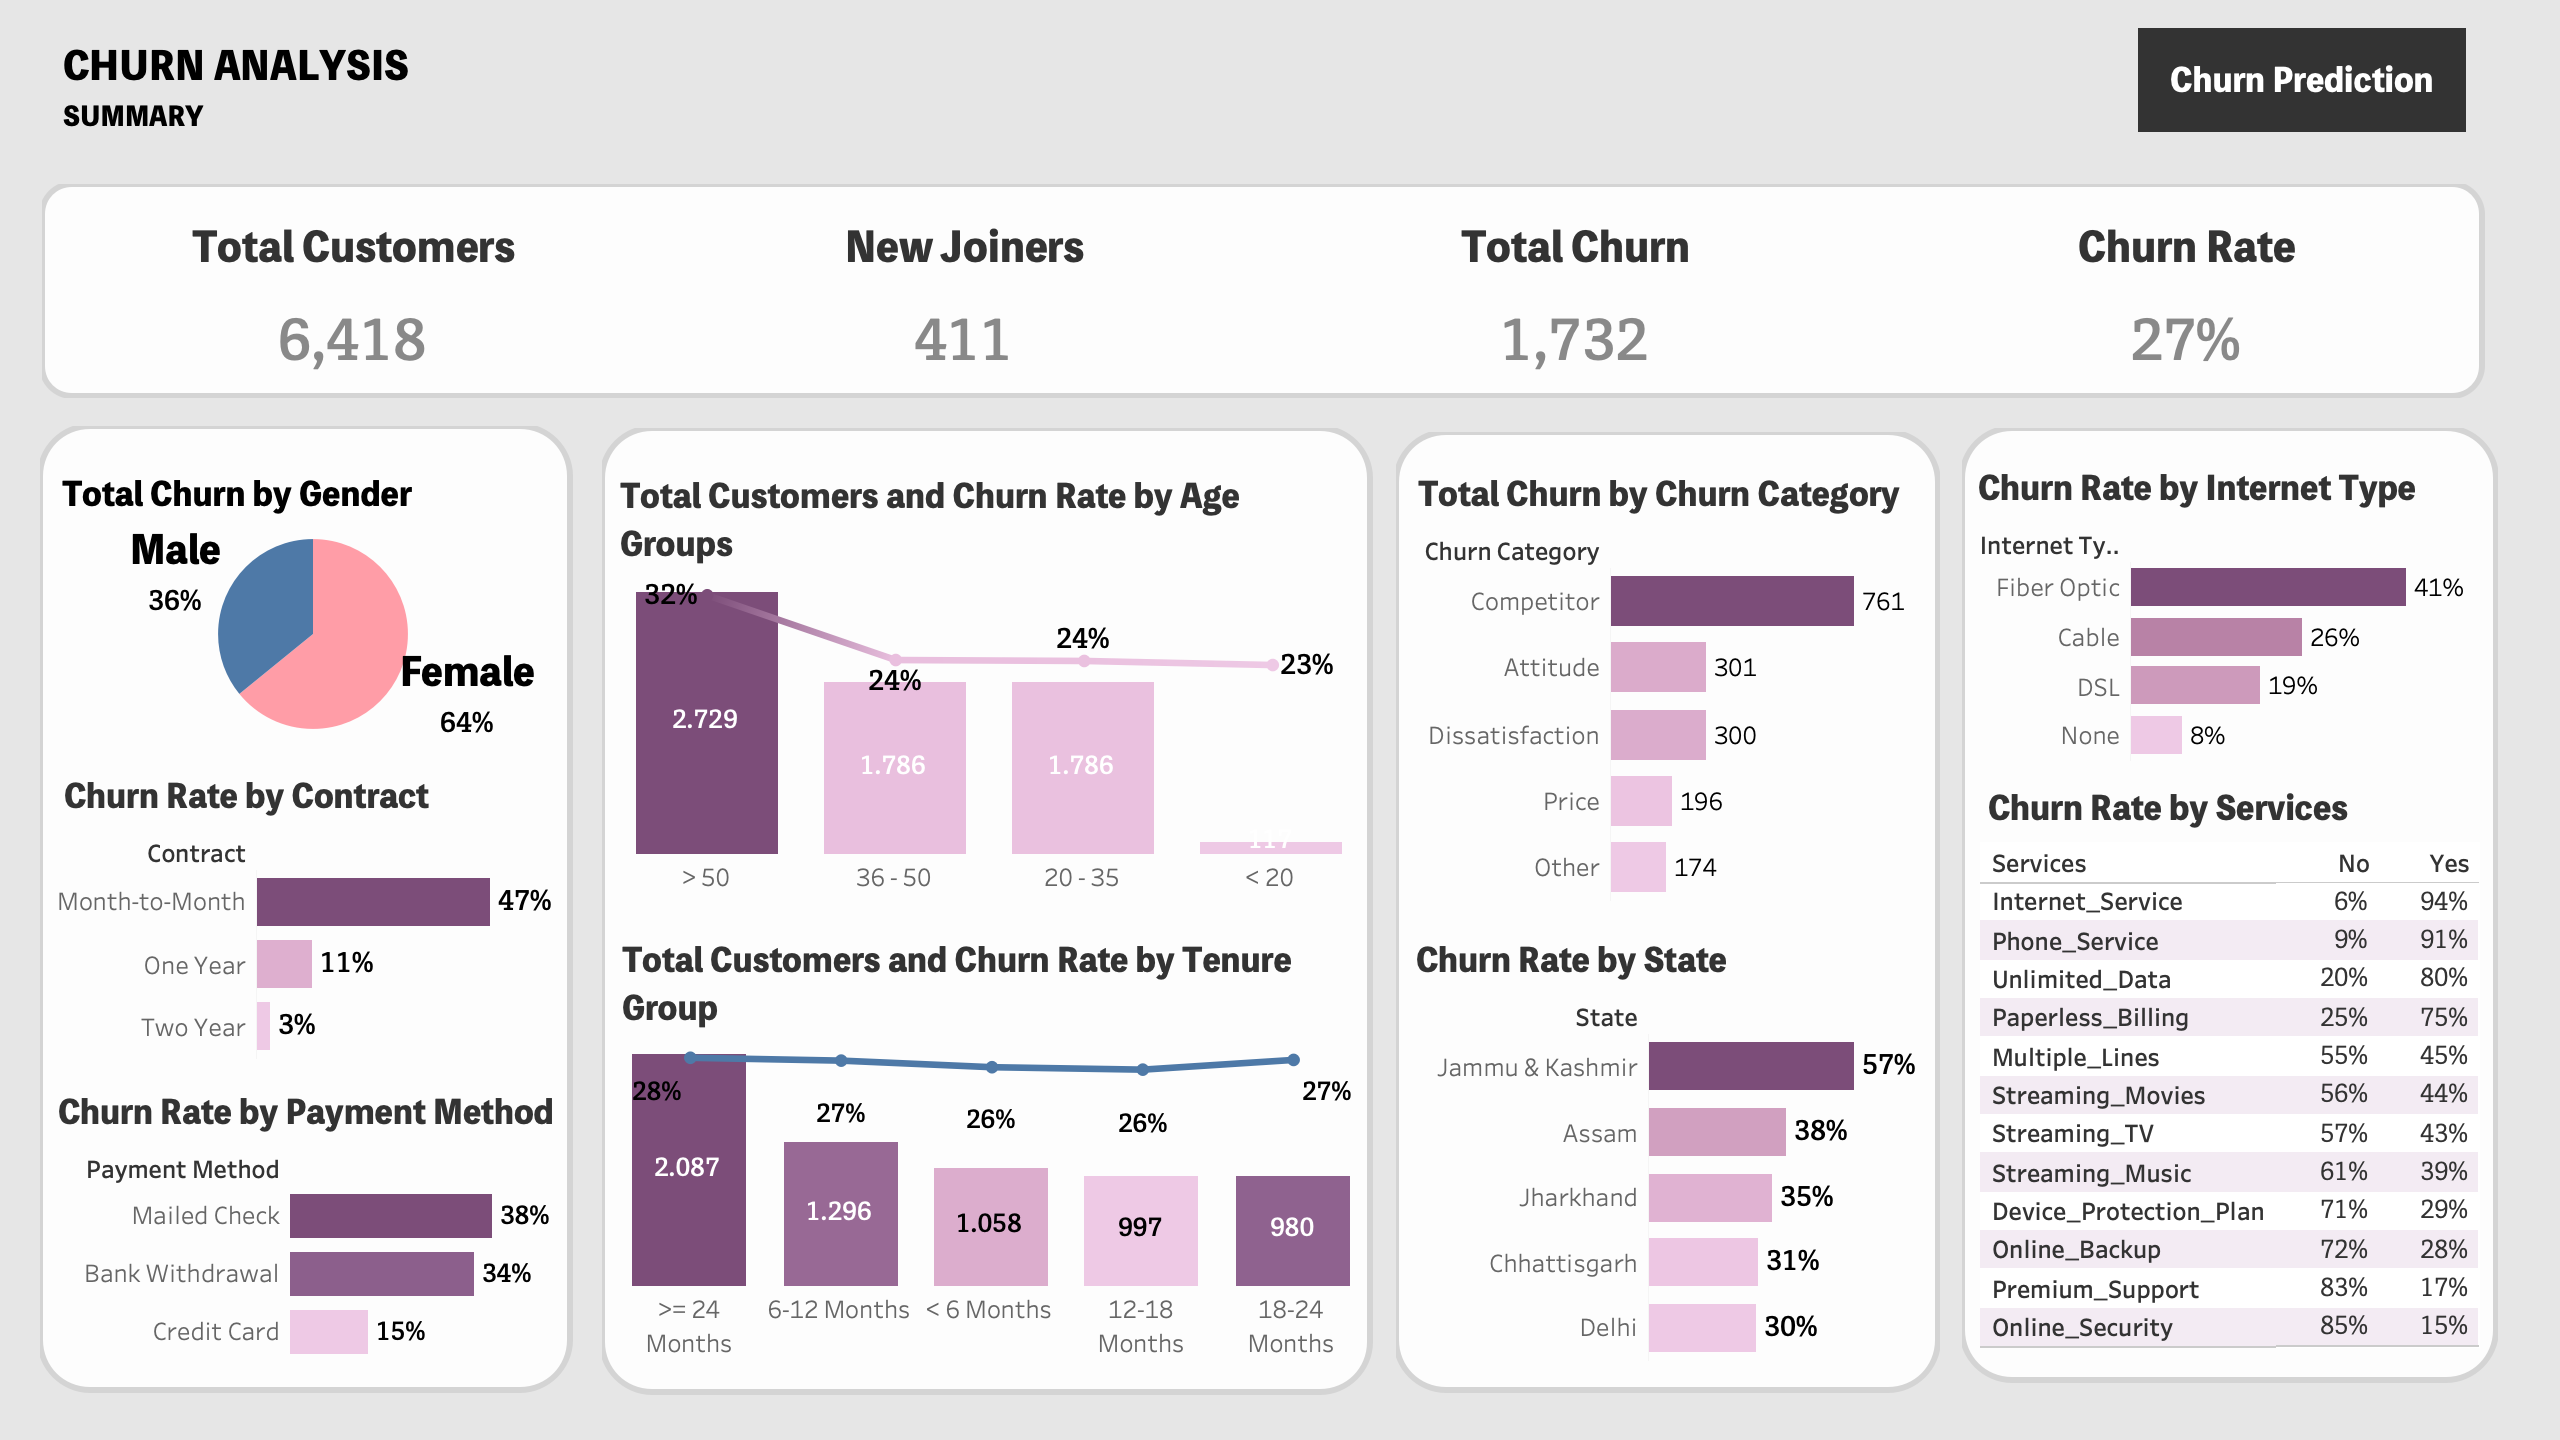

Layout of this report page (visuals, bound fields, positions):
{"tool":"tableau","page":{"name":"Summary","canvas":[1280,720],"ordinal":1},"visuals":[{"type":"text","box":[29,9,614,70]},{"type":"dashboard-object","box":[1069,14,164,52]},{"type":"worksheet","title":"Rounded Box (5)","mark":"Automatic","box":[21,92,1224,107]},{"type":"worksheet","title":"Churn Overview","mark":"Automatic","box":[24,103,1222,94]},{"type":"worksheet","title":"Rounded Box","mark":"Automatic","box":[20,213,273,486]},{"type":"worksheet","title":"Rounded Box (2)","mark":"Automatic","box":[301,214,386,487]},{"type":"worksheet","title":"Rounded Box (4)","mark":"Automatic","box":[981,214,268,478]},{"type":"worksheet","title":"Rounded Box (3)","mark":"Automatic","box":[698,216,272,483]},{"type":"worksheet","title":"Churn Rate by Internet Type","mark":"Automatic","rows":["Internet_Type"],"cols":["Calculation_6543800646768881668"],"box":[985,230,259,150]},{"type":"worksheet","title":"Total Churn by Gender","mark":"Pie","box":[27,233,259,137]},{"type":"worksheet","title":"Total Churn by Churn Category","mark":"Automatic","rows":["Churn_Category"],"cols":["Calculation_6543800646768717827"],"box":[705,233,258,217]},{"type":"worksheet","title":"Total Churn + Churn Rate (Age Group)","mark":"Bar","rows":["Calculation_6543800646767616001","Calculation_6543800646768881668"],"cols":["Calculation_6543800646793588743"],"box":[306,234,377,214]},{"type":"worksheet","title":"Churn Rate by Contract","mark":"Automatic","rows":["Contract"],"cols":["Calculation_6543800646768881668"],"box":[28,384,258,145]},{"type":"worksheet","title":"Churn Rate by Services","mark":"Automatic","rows":["Services"],"cols":["Status"],"box":[990,390,250,284]},{"type":"worksheet","title":"Total Churn + Churn Rate (Tenure Group)","mark":"Bar","rows":["Calculation_6543800646767616001","Calculation_6543800646768881668"],"cols":["Tenure in Months (copy)_6543800649255772169"],"box":[307,466,377,217]},{"type":"worksheet","title":"Churn Rate by State","mark":"Automatic","rows":["State"],"cols":["Calculation_6543800646768881668"],"box":[704,466,263,214]},{"type":"worksheet","title":"Churn Rate by Payment","mark":"Bar","rows":["Payment_Method"],"cols":["Calculation_6543800646768881668"],"box":[25,542,259,138]}]}

Visuals, with their boxes in screenshot pixels (x1, y1, x2, y2), scaled from the page's 1280x720 canvas onto the 2560x1440 screenshot:
text: bbox=(58, 18, 1286, 158)
dashboard-object: bbox=(2138, 28, 2466, 132)
"Rounded Box (5)" worksheet: bbox=(42, 184, 2490, 398)
"Churn Overview" worksheet: bbox=(48, 206, 2492, 394)
"Rounded Box" worksheet: bbox=(40, 426, 586, 1398)
"Rounded Box (2)" worksheet: bbox=(602, 428, 1374, 1402)
"Rounded Box (4)" worksheet: bbox=(1962, 428, 2498, 1384)
"Rounded Box (3)" worksheet: bbox=(1396, 432, 1940, 1398)
"Churn Rate by Internet Type" worksheet: bbox=(1970, 460, 2488, 760)
"Total Churn by Gender" worksheet (Pie marks): bbox=(54, 466, 572, 740)
"Total Churn by Churn Category" worksheet: bbox=(1410, 466, 1926, 900)
"Total Churn + Churn Rate (Age Group)" worksheet (Bar marks): bbox=(612, 468, 1366, 896)
"Churn Rate by Contract" worksheet: bbox=(56, 768, 572, 1058)
"Churn Rate by Services" worksheet: bbox=(1980, 780, 2480, 1348)
"Total Churn + Churn Rate (Tenure Group)" worksheet (Bar marks): bbox=(614, 932, 1368, 1366)
"Churn Rate by State" worksheet: bbox=(1408, 932, 1934, 1360)
"Churn Rate by Payment" worksheet (Bar marks): bbox=(50, 1084, 568, 1360)
